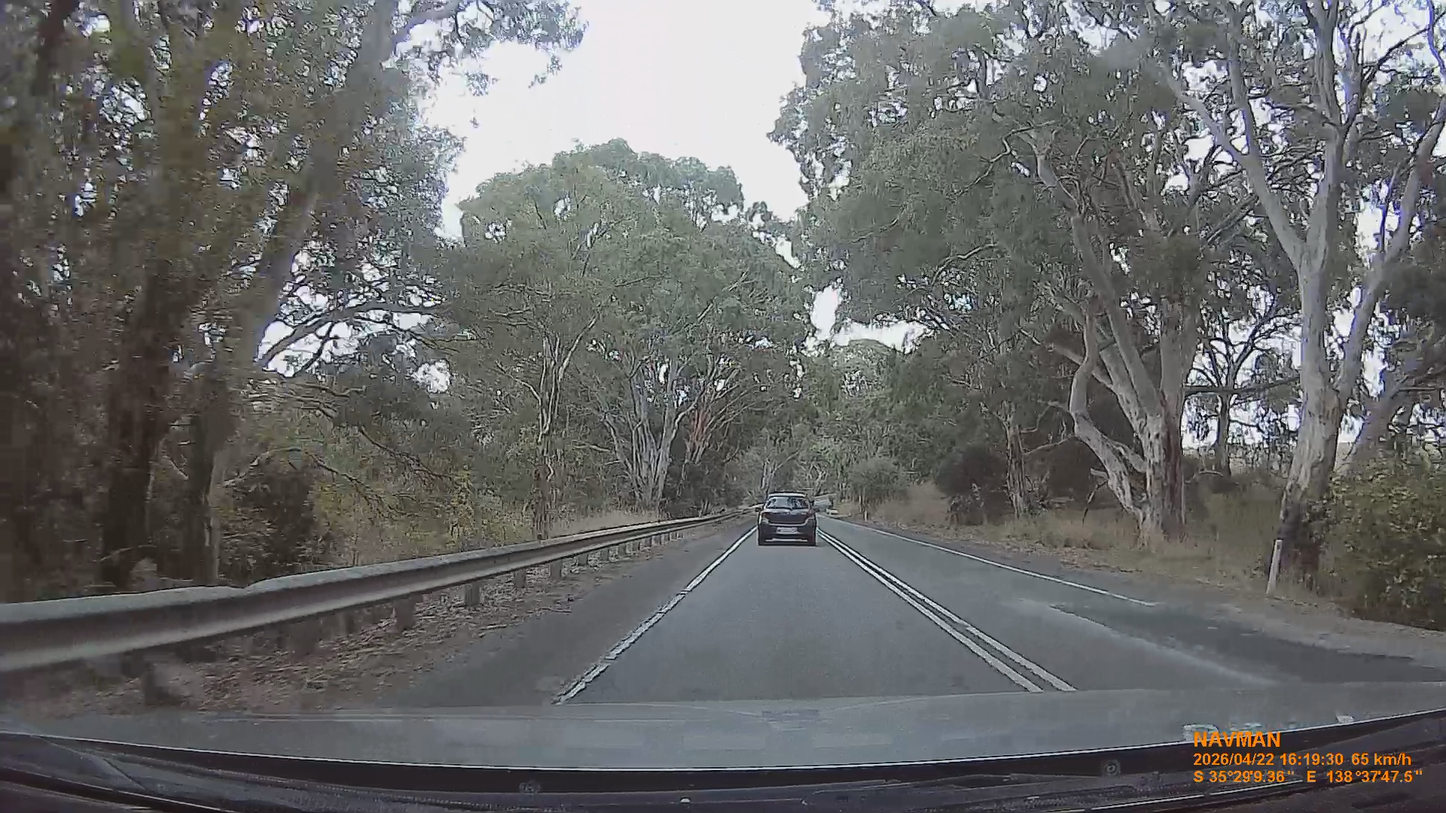road barriers: (3, 507, 724, 676)
